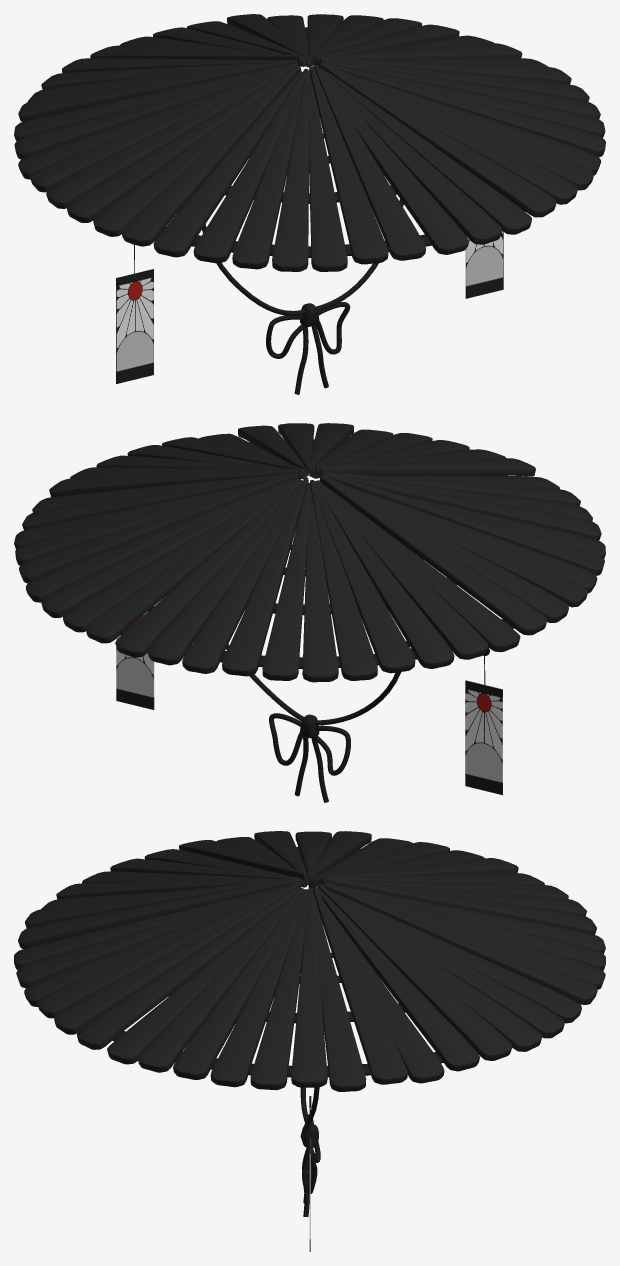
Rendered from samurai-hat.glb.
3 renders of one model, top to bottom at view 1: azimuth 30°, elevation 25°; view 2: azimuth 150°, elevation 25°; view 3: azimuth 270°, elevation 25°, orthographic.
Parts seen in each view (by area): view 1: Cube.007; view 2: Cube.007; view 3: Cube.007.
Part boxes in pixels (left/top/right/bottom): Cube.007: left=14, top=14, right=605, bottom=394; Cube.007: left=14, top=423, right=605, bottom=802; Cube.007: left=14, top=831, right=605, bottom=1251.
Size of the model in its own units: 6.85 by 4.21 by 6.82.
Materials: 4 (1 with a texture image).
